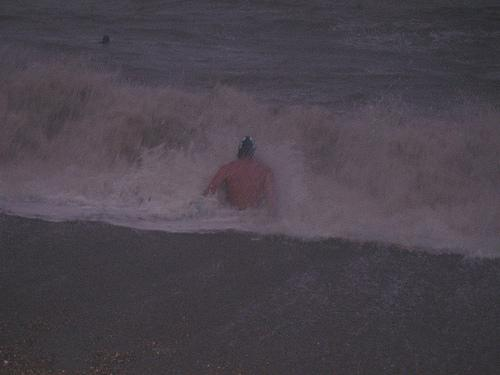swimmer: (203, 134, 279, 214)
